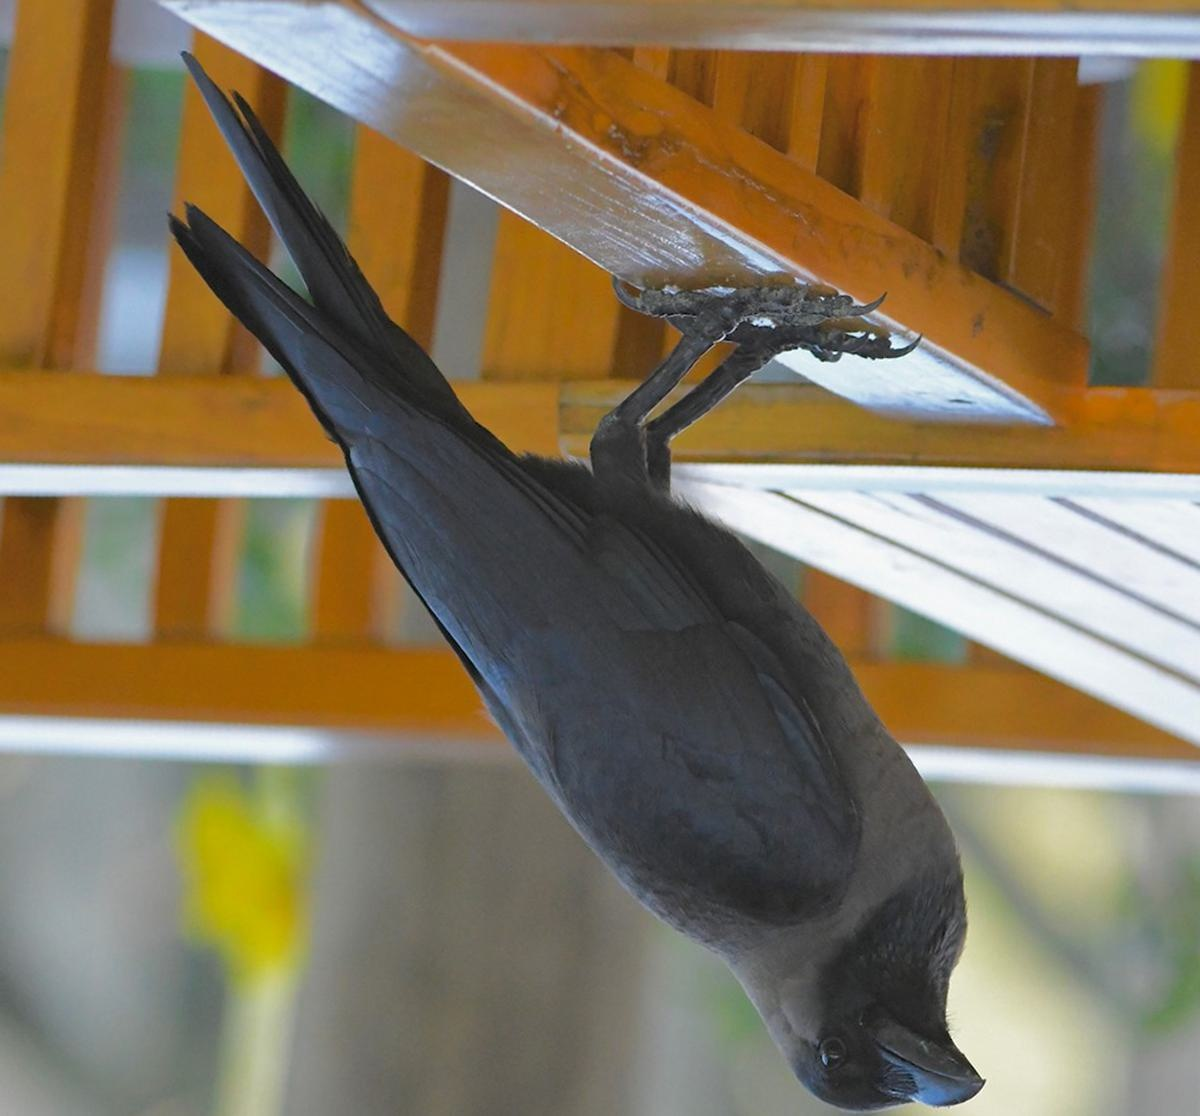crow: (172, 98, 1068, 1116)
